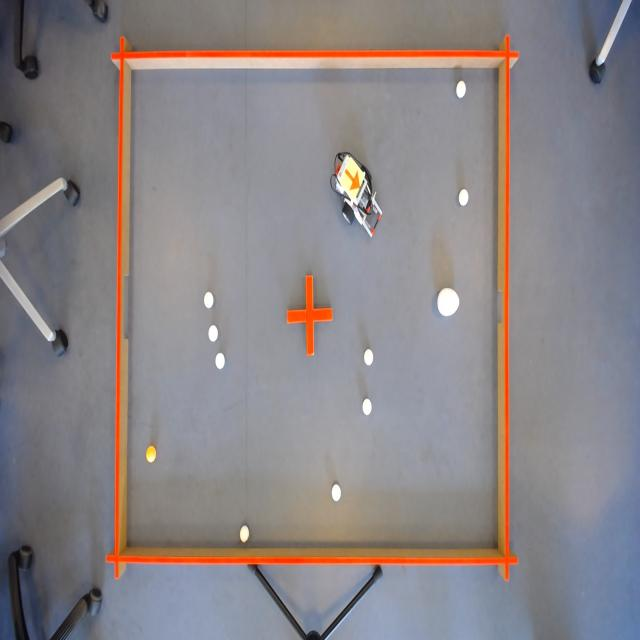cross: (285, 273, 334, 358)
egg: (435, 286, 461, 322)
orange_ball: (146, 443, 158, 467)
robot: (339, 154, 367, 203)
white_ball: (237, 522, 251, 546), (202, 288, 216, 312), (362, 346, 376, 370), (360, 396, 372, 422), (330, 480, 342, 506), (454, 76, 467, 100), (458, 186, 471, 208), (216, 349, 228, 372), (207, 321, 218, 346)
